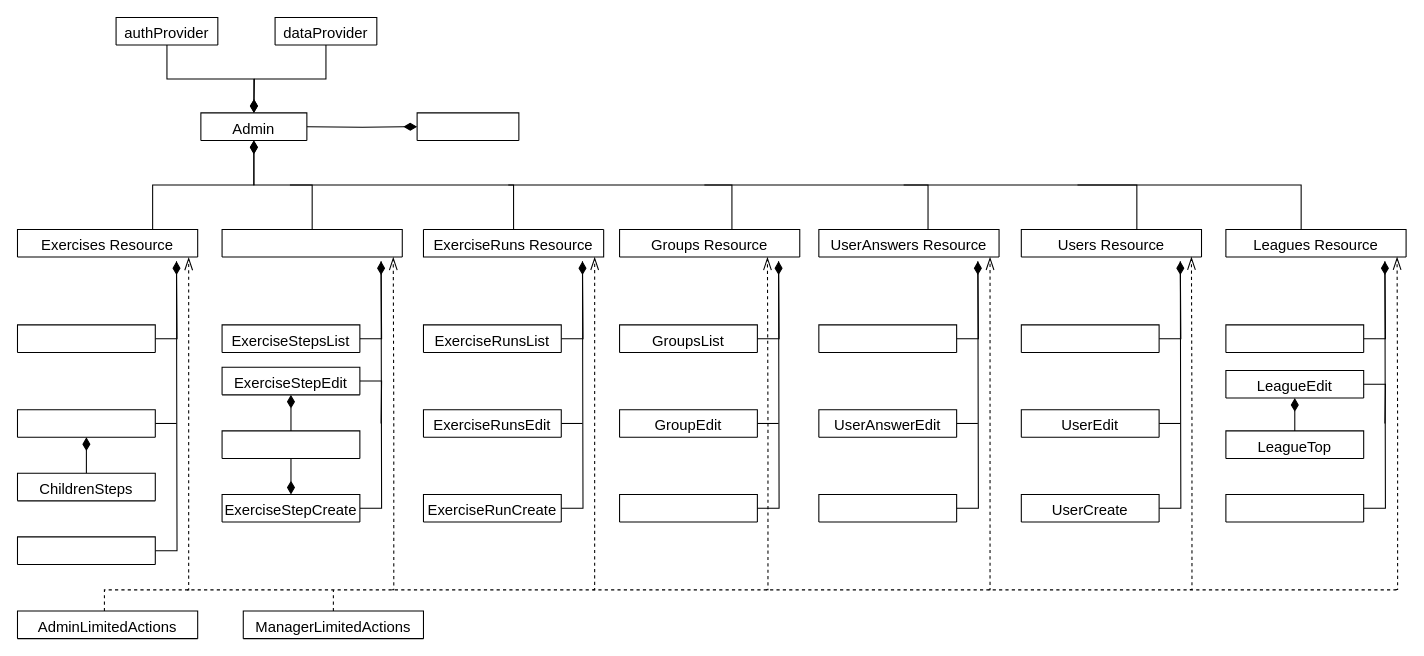
Some shapes in this 1424 by 656 pixel diagram are drawn without their labels. Here are the shapes that lost their labels. From the top down, the centre of each, then its label:
[467,126]: App
[311,242]: ExerciseSteps Resource
[85,338]: ExercisesList
[887,338]: UserAnswersList
[1089,338]: UsersList
[1294,338]: LeaguesList
[85,423]: ExerciseEdit
[290,444]: StepEditor
[688,507]: GroupCreate
[887,507]: UserAnswerCreate
[1294,507]: LeagueCreate
[85,550]: ExerciseCreate
